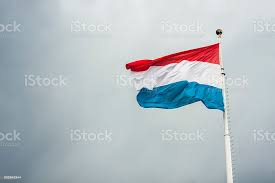Flag: (126, 44, 225, 109)
